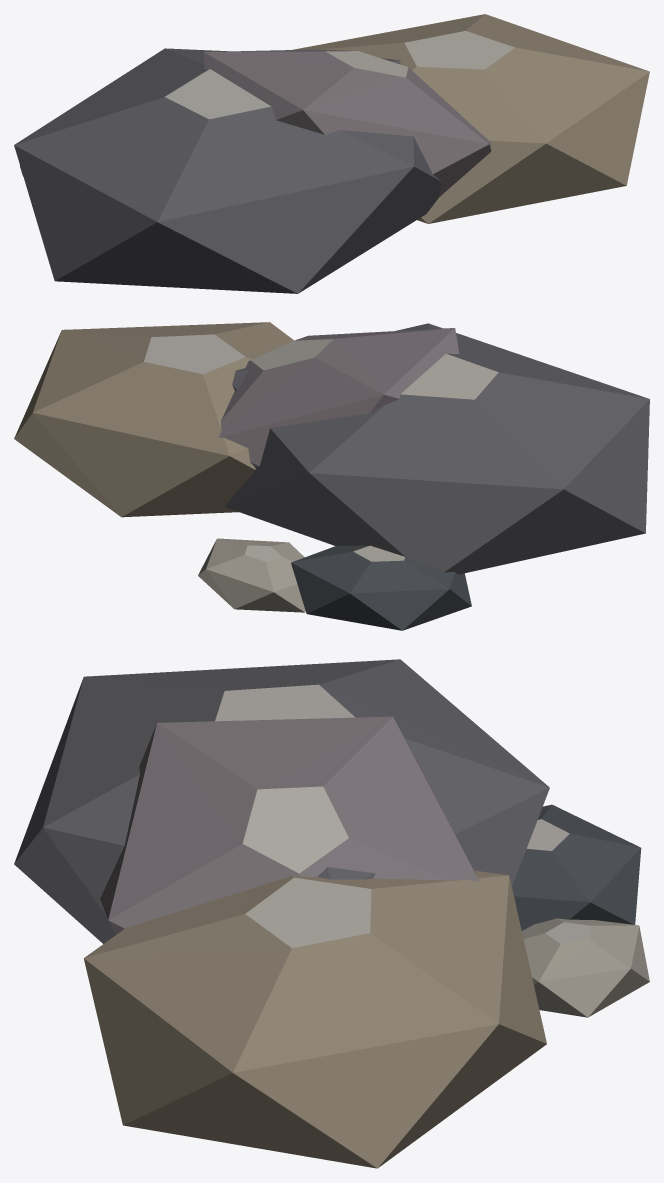
Rendered from river_stone.glb.
The picture shows the model from 3 angles, top to bottom: view 1: azimuth 30°, elevation 25°; view 2: azimuth 150°, elevation 25°; view 3: azimuth 270°, elevation 25°; orthographic projection. The views are drawn at different scales.
Size of the model in its own units: 0.5894 by 0.1726 by 0.398.
